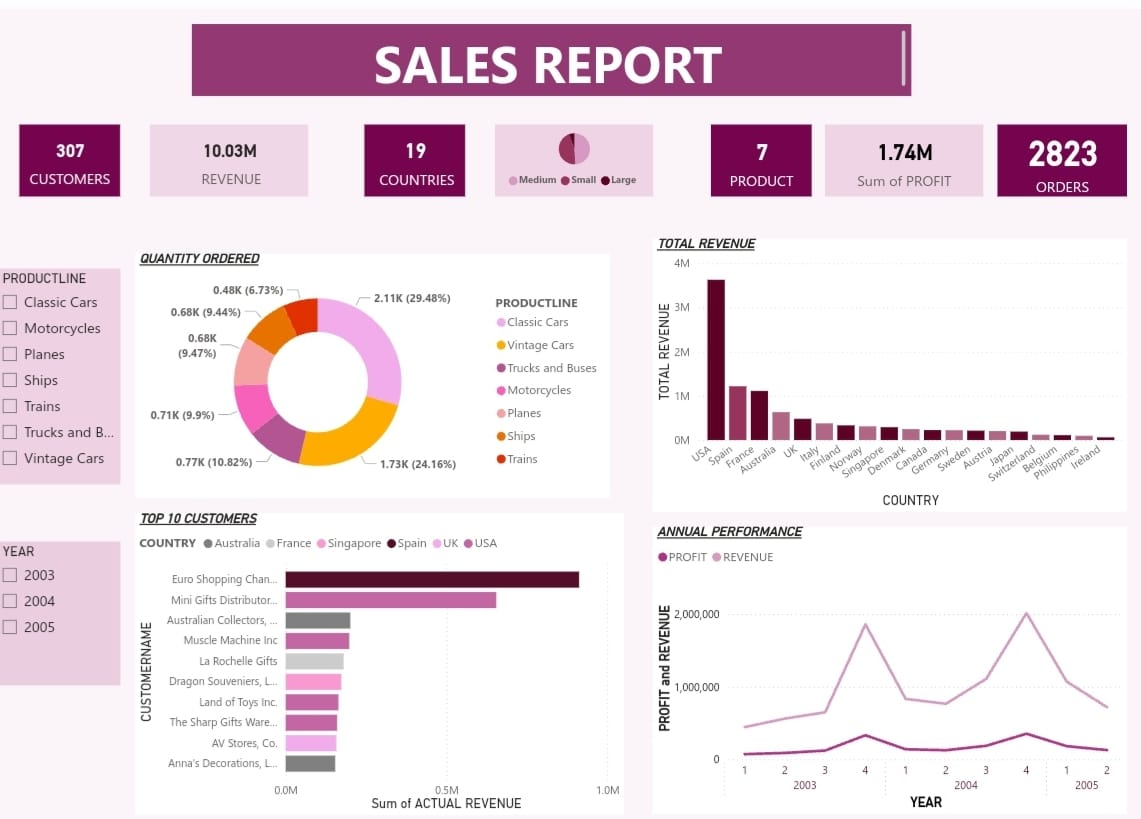

What the dashboard file says about the page in this screenshot:
{"tool":"powerbi","page":{"name":"Page 4","canvas":[1280,900],"ordinal":0},"visuals":[{"type":"donutChart","title":"QUANTITY ORDERED","fields":{"Category":["order details.PRODUCTLINE"],"Y":["CountNonNull(sales details.QUANTITY ORDERED)"]},"box":[160,272,528,272],"z":0},{"type":"columnChart","title":"TOTAL REVENUE ","fields":{"Category":["region details.COUNTRY"],"Y":["Sum(sales details.ACTUAL REVENUE)"]},"box":[736,256,528,304],"z":1000},{"type":"barChart","title":"TOP 10 CUSTOMERS","fields":{"Category":["sales details.CUSTOMERNAME"],"Y":["Sum(sales details.ACTUAL REVENUE)"],"Series":["region details.COUNTRY"]},"box":[160,560,544,336],"z":2000},{"type":"slicer","fields":{"Values":["order details.YEAR_ID"]},"box":[0,592,144,160],"z":3000},{"type":"slicer","fields":{"Values":["order details.PRODUCTLINE"]},"box":[0,288,144,240],"z":4000},{"type":"card","title":"NO. OF CUSTOMERS","fields":{"Values":["Count(order details.Customer_ID)"]},"box":[32,128,112,80],"z":5000},{"type":"pieChart","fields":{"Category":["order details.DEALSIZE"],"Y":["CountNonNull(order details.Customer_ID)"]},"box":[560,128,176,80],"z":6000},{"type":"card","fields":{"Values":["CountNonNull(order details.Customer_ID)"]},"box":[1120,128,144,80],"z":7000},{"type":"card","fields":{"Values":["Count(order details.PRODUCTLINE)"]},"box":[800,128,112,80],"z":8000},{"type":"card","fields":{"Values":["Sum(sales details.ACTUAL REVENUE)"]},"box":[176,128,176,80],"z":9000},{"type":"card","fields":{"Values":["Count(region details.COUNTRY)"]},"box":[416,128,112,80],"z":10000},{"type":"card","fields":{"Values":["Sum(sales details.PROFIT)"]},"box":[928,128,176,80],"z":11000},{"type":"lineChart","title":"ANNUAL PERFORMANCE","fields":{"Category":["order details.YEAR_ID","order details.QTR_ID"],"Y":["Sum(sales details.PROFIT)","Sum(sales details.ACTUAL REVENUE)"]},"box":[736,576,528,320],"z":12000},{"type":"textbox","box":[224,16,800,80],"z":13001}]}

Visuals, with their boxes in screenshot pixels (x1, y1, x2, y2), scaled from the page's 1280x900 canvas onto the 1141x819 screenshot:
"QUANTITY ORDERED" donutChart: (left=143, top=248, right=613, bottom=495)
"TOTAL REVENUE " columnChart: (left=656, top=233, right=1127, bottom=510)
"TOP 10 CUSTOMERS" barChart: (left=143, top=510, right=628, bottom=815)
slicer - order details.YEAR_ID: (left=0, top=539, right=128, bottom=684)
slicer - order details.PRODUCTLINE: (left=0, top=262, right=128, bottom=480)
"NO. OF CUSTOMERS" card: (left=29, top=116, right=128, bottom=189)
pieChart - order details.DEALSIZE x CountNonNull(order details.Customer_ID): (left=499, top=116, right=656, bottom=189)
card - CountNonNull(order details.Customer_ID): (left=998, top=116, right=1127, bottom=189)
card - Count(order details.PRODUCTLINE): (left=713, top=116, right=813, bottom=189)
card - Sum(sales details.ACTUAL REVENUE): (left=157, top=116, right=314, bottom=189)
card - Count(region details.COUNTRY): (left=371, top=116, right=471, bottom=189)
card - Sum(sales details.PROFIT): (left=827, top=116, right=984, bottom=189)
"ANNUAL PERFORMANCE" lineChart: (left=656, top=524, right=1127, bottom=815)
textbox: (left=200, top=15, right=913, bottom=87)
